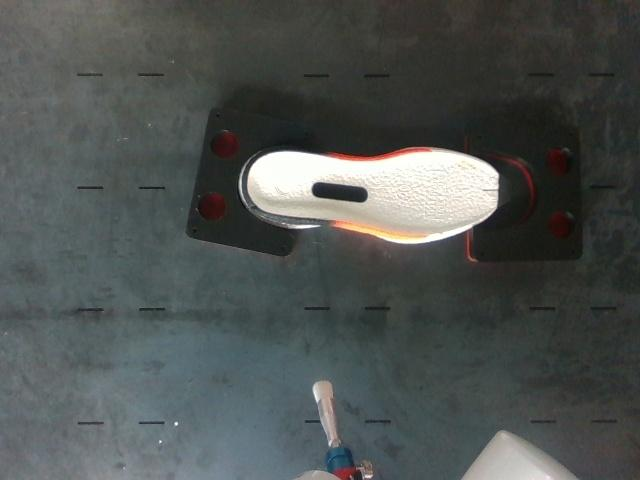shoes: (241, 148, 510, 236)
